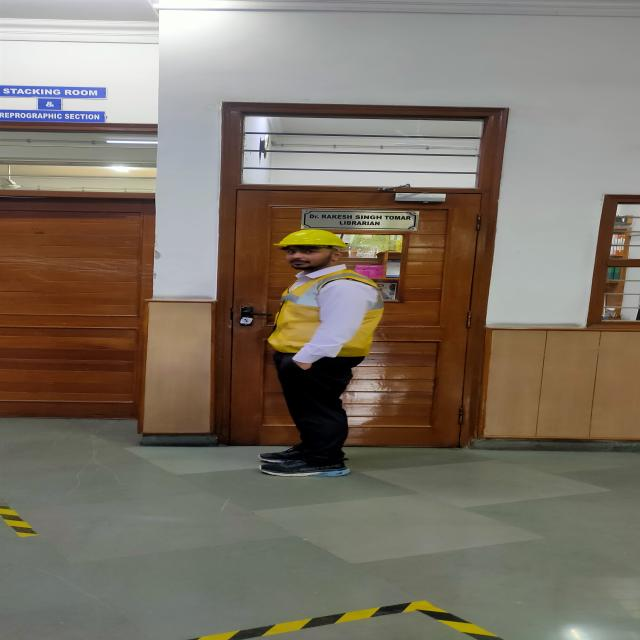safe: (258, 231, 383, 478)
